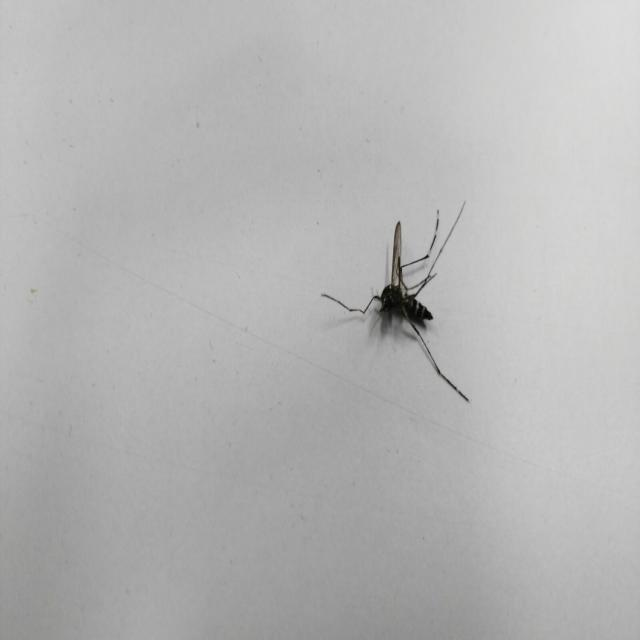albopictus: (326, 189, 478, 410)
